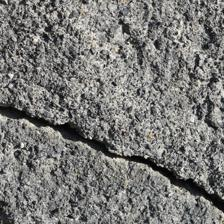Crack: (4, 100, 221, 214)
